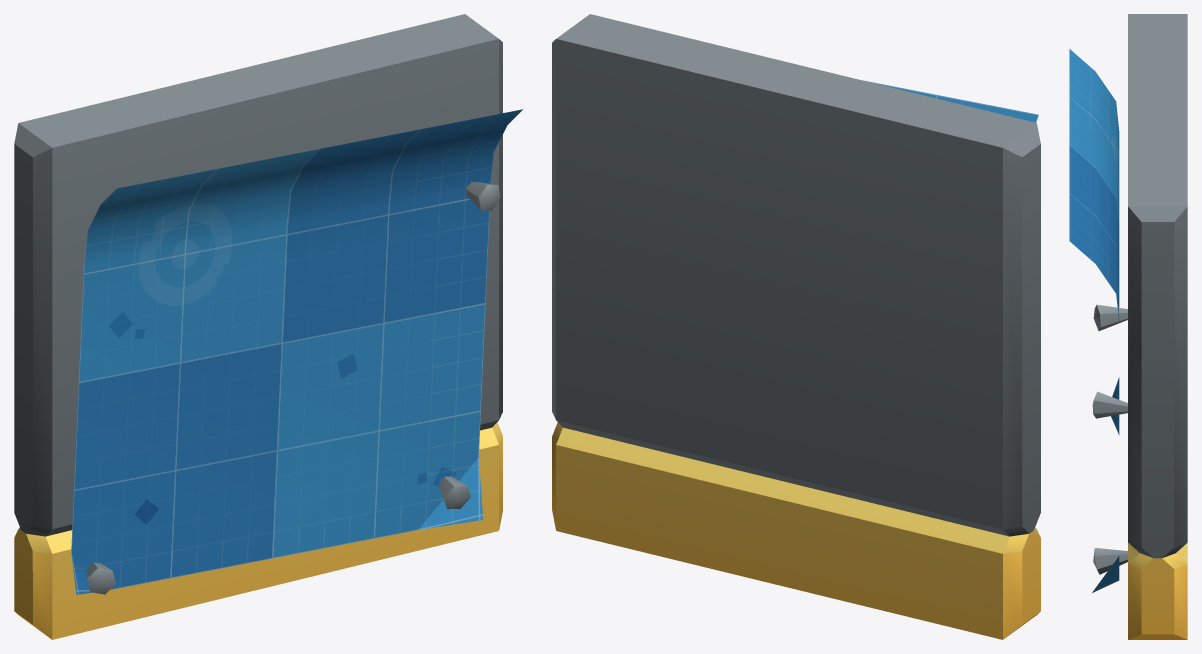
File: Wall_Target.glb
The picture shows the model from 3 angles, left to right: view 1: azimuth 30°, elevation 25°; view 2: azimuth 150°, elevation 25°; view 3: azimuth 270°, elevation 25°; orthographic projection. The views are drawn at different scales.
Parts seen in each view (by area): view 1: Wall_Target; view 2: Wall_Target; view 3: Wall_Target.
Boxes of the visible parts, box(x1,y1,x2,y2) form: Wall_Target: box(14, 14, 522, 639); Wall_Target: box(552, 14, 1040, 639); Wall_Target: box(1069, 14, 1187, 639).
Bounding box in the file's own units: 4 × 4 × 0.9913.
Materials: 1 (1 with a texture image).
